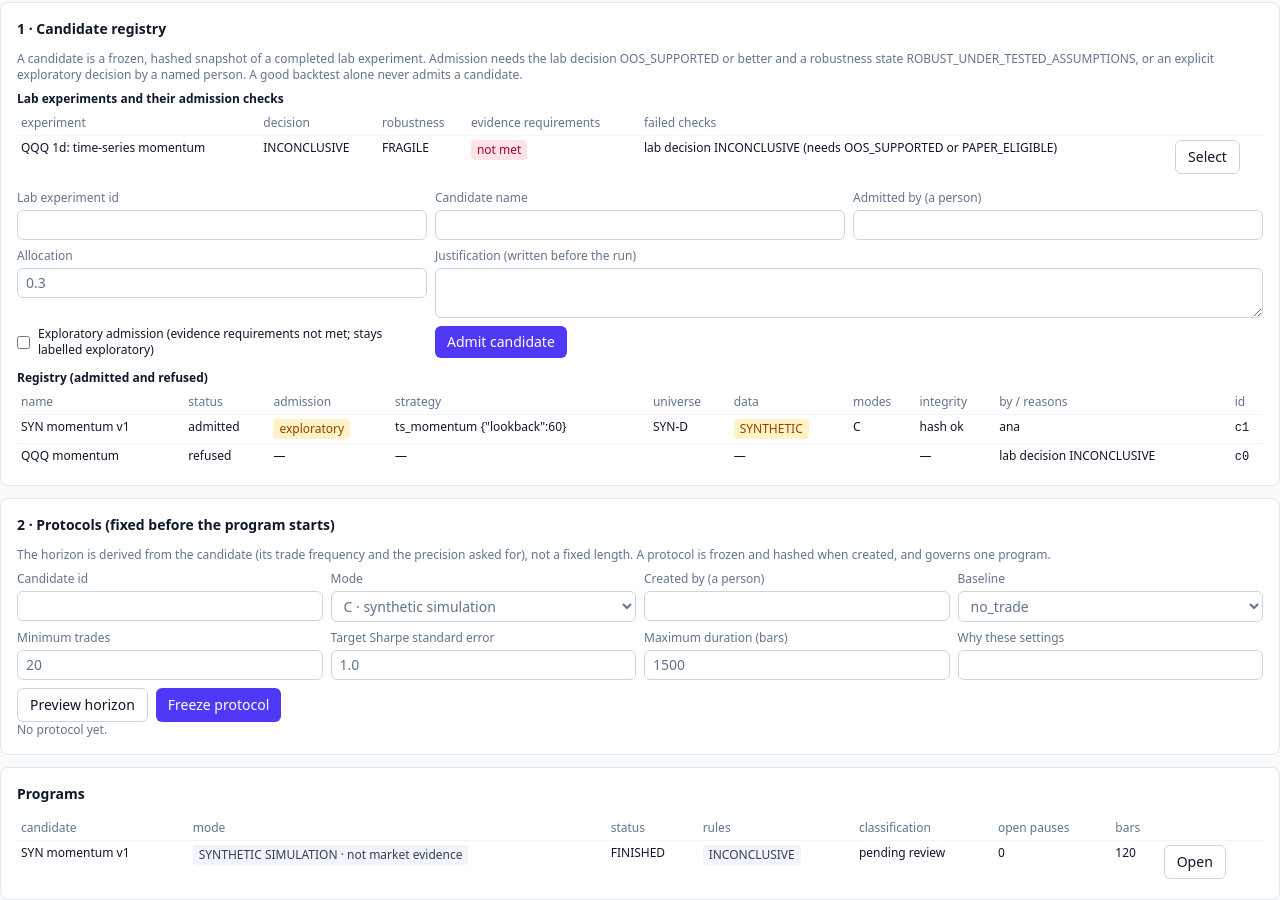
Paper Trading Validation › shows the registry, the ten sections of a program and keeps modes labelled
(page scrolled)
Expected: the text "QQQ 1d: time-series momentum" is shown, [21,139,205,156]
Expected: the text "not met" is shown, [471,140,527,160]
Click the button "Open": {"x": 1195, "y": 862} [1164,845,1226,879]
(page scrolled)
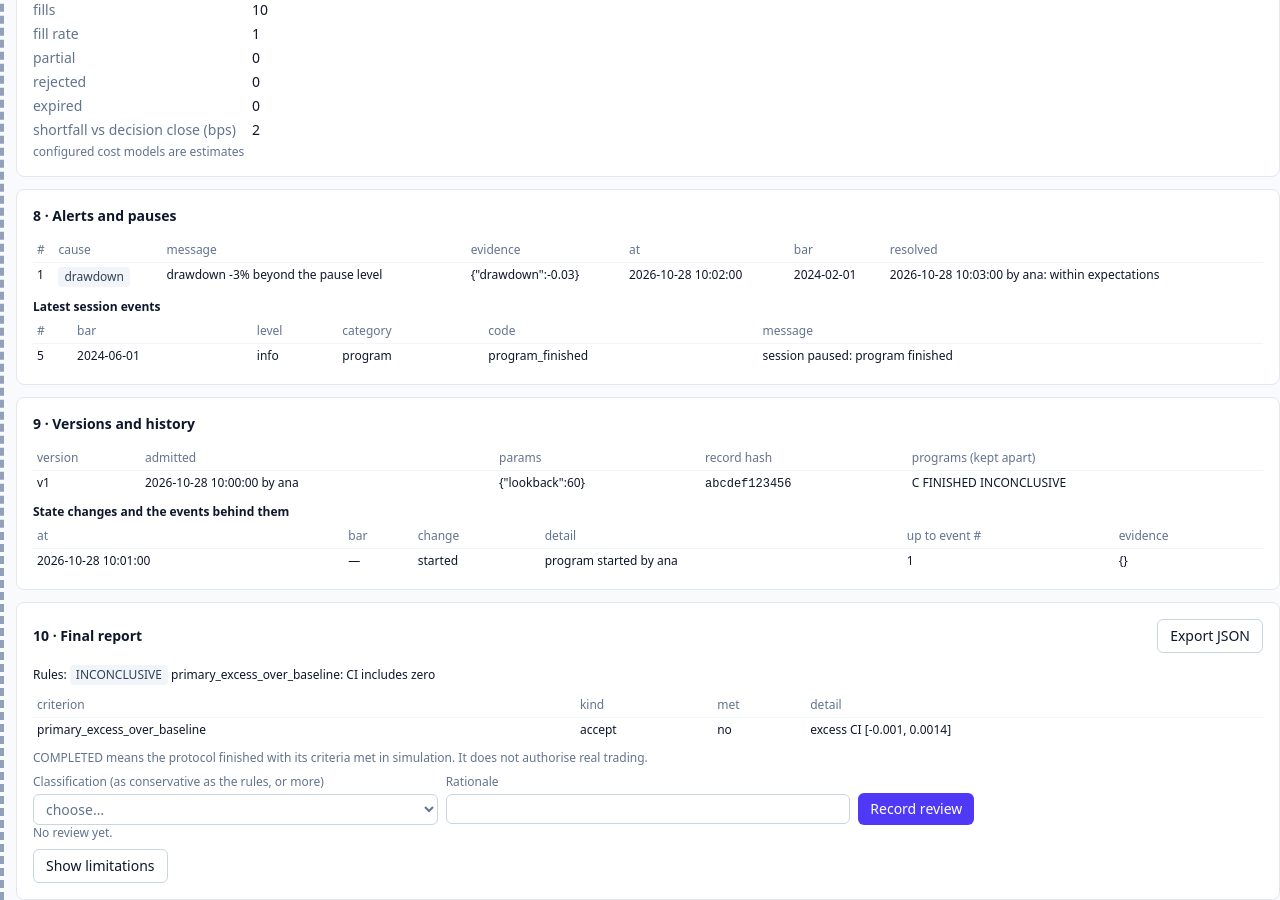
Result: the heading "8 · Alerts and pauses" is shown at [33,206,176,226]
Result: the heading "9 · Versions and history" is shown at [33,414,195,434]
Result: the heading "10 · Final report" is shown at [33,626,142,646]
